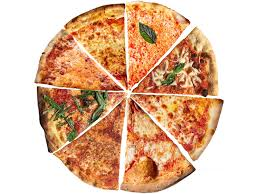pizza: (33, 2, 231, 187)
